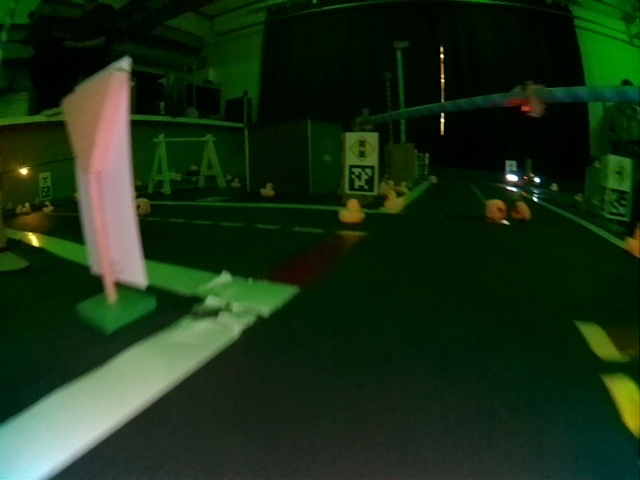Duckie: (339, 200, 364, 223), (486, 199, 506, 221), (512, 201, 532, 222), (384, 192, 402, 210), (135, 198, 151, 214), (261, 183, 276, 197)
QR code: (348, 164, 375, 193), (609, 190, 629, 217)
Signal sign: (349, 135, 374, 161)
Traffic light: (521, 103, 545, 118)
